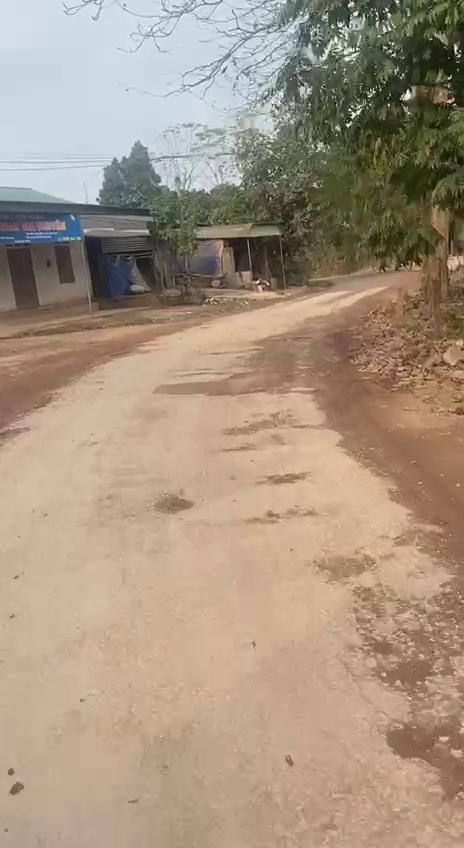pothole: (322, 549, 464, 816)
